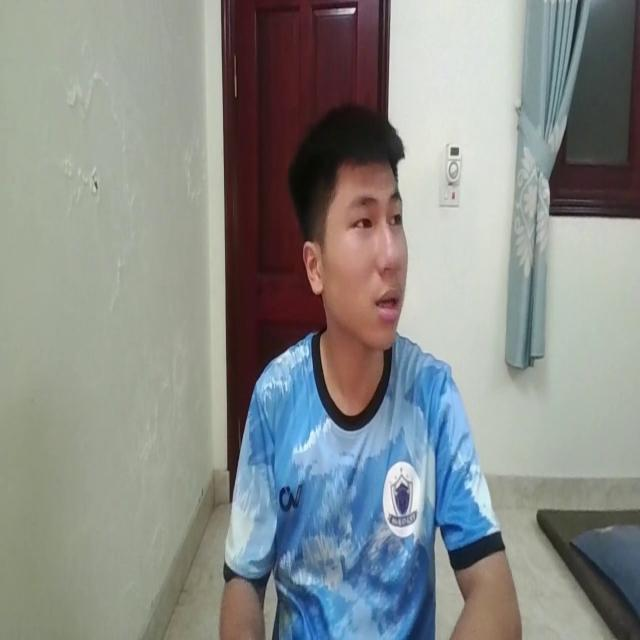student: (216, 95, 518, 640)
